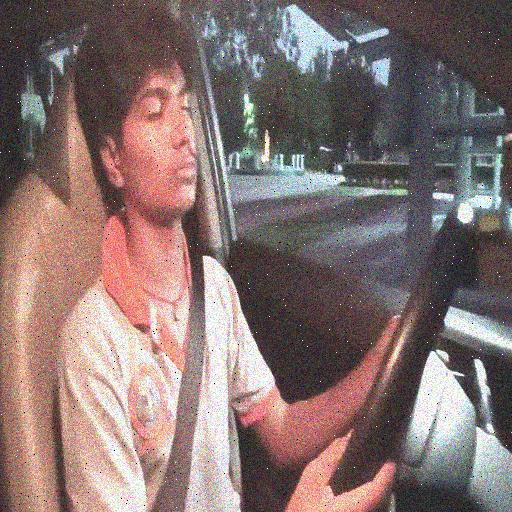sleepy: (80, 2, 199, 230)
